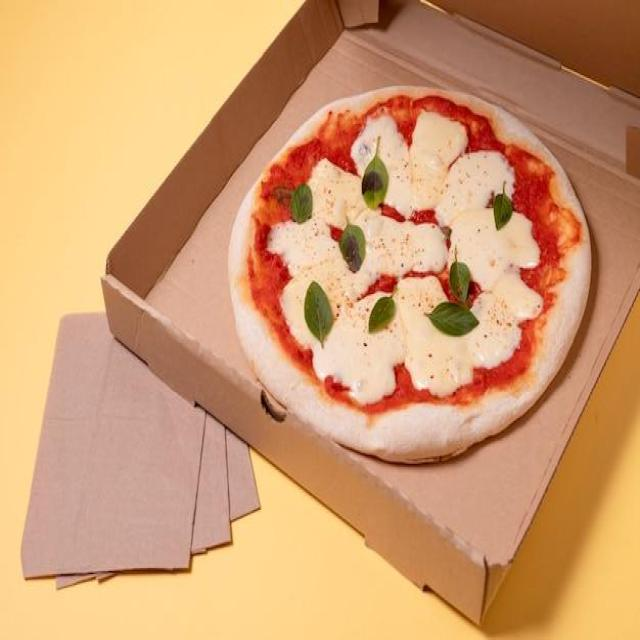basil: (304, 281, 334, 349), (362, 135, 388, 212), (423, 302, 479, 337), (339, 214, 366, 274), (449, 246, 470, 304), (494, 180, 513, 232), (291, 183, 313, 222)
pizza: (228, 86, 592, 463)
